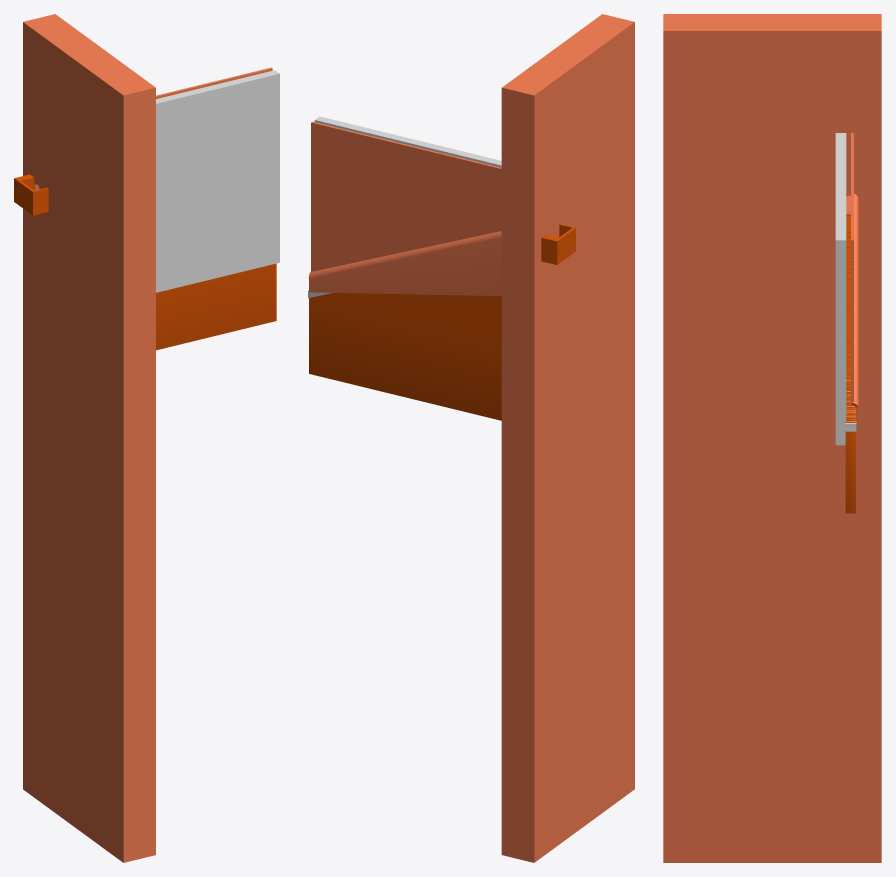
File: redroom_stairs.fbx
3 renders of one model, left to right at view 1: azimuth 30°, elevation 25°; view 2: azimuth 150°, elevation 25°; view 3: azimuth 270°, elevation 25°, orthographic. The views are drawn at different scales.
Visible parts, largest first — view 1: wall_2.003, Cube, rampbounds_1, BLIND_ETNRACE; view 2: wall_2.003, wall_2.001, rampbounds_1, Cube, BLIND_ETNRACE; view 3: wall_2.003, Cube, rampbounds_1, wall_2.001.
Part boxes in pixels (<box>): wall_2.003: <box>23,14,155,862</box>; Cube: <box>156,70,279,292</box>; rampbounds_1: <box>156,263,276,350</box>; BLIND_ETNRACE: <box>14,174,48,215</box>; wall_2.003: <box>501,14,634,862</box>; wall_2.001: <box>308,121,501,295</box>; rampbounds_1: <box>309,293,501,420</box>; Cube: <box>314,116,501,167</box>; BLIND_ETNRACE: <box>541,224,575,264</box>; wall_2.003: <box>663,14,881,862</box>; Cube: <box>835,133,846,445</box>; rampbounds_1: <box>845,214,855,513</box>; wall_2.001: <box>851,133,858,422</box>.
Bounding box in the file's own units: 1219 × 3522 × 837.
